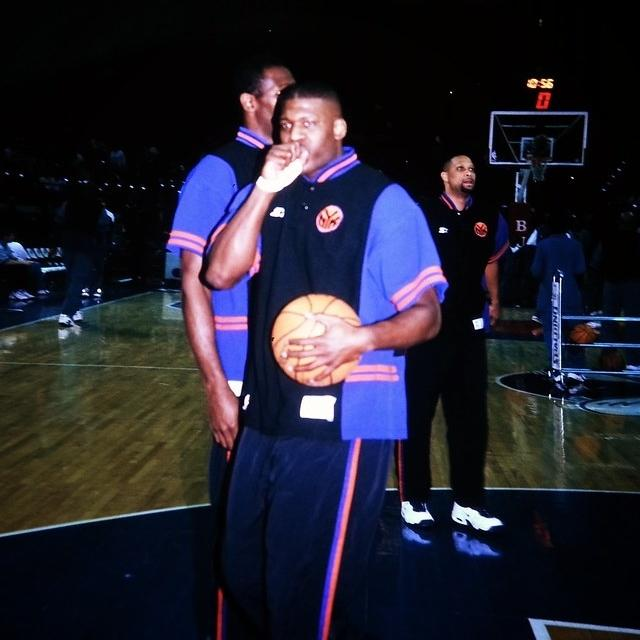basketball: (270, 291, 365, 384), (571, 322, 596, 346), (598, 350, 628, 369)
hoop: (525, 153, 552, 181)
